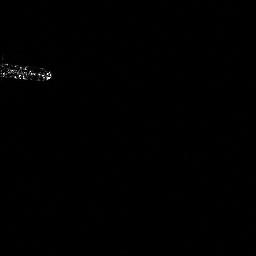ship: (1, 60, 53, 85)
